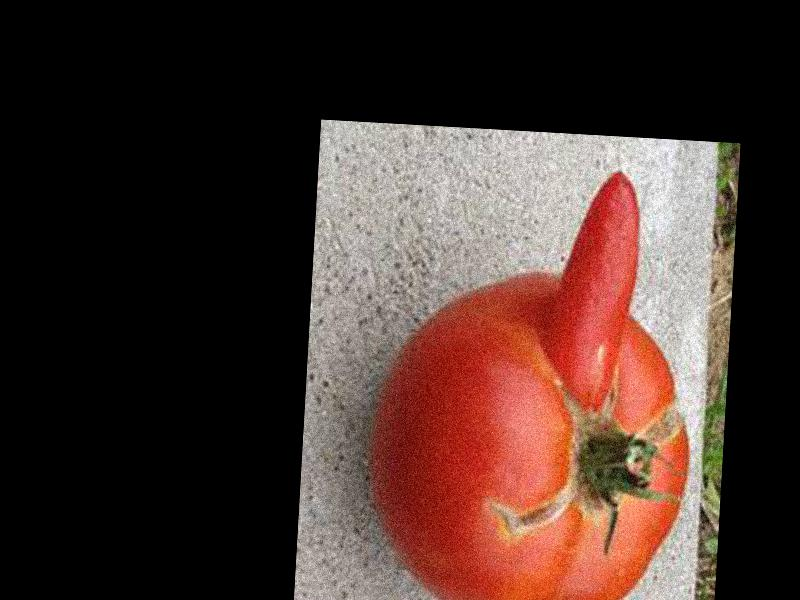Tomato: (371, 264, 699, 600)
